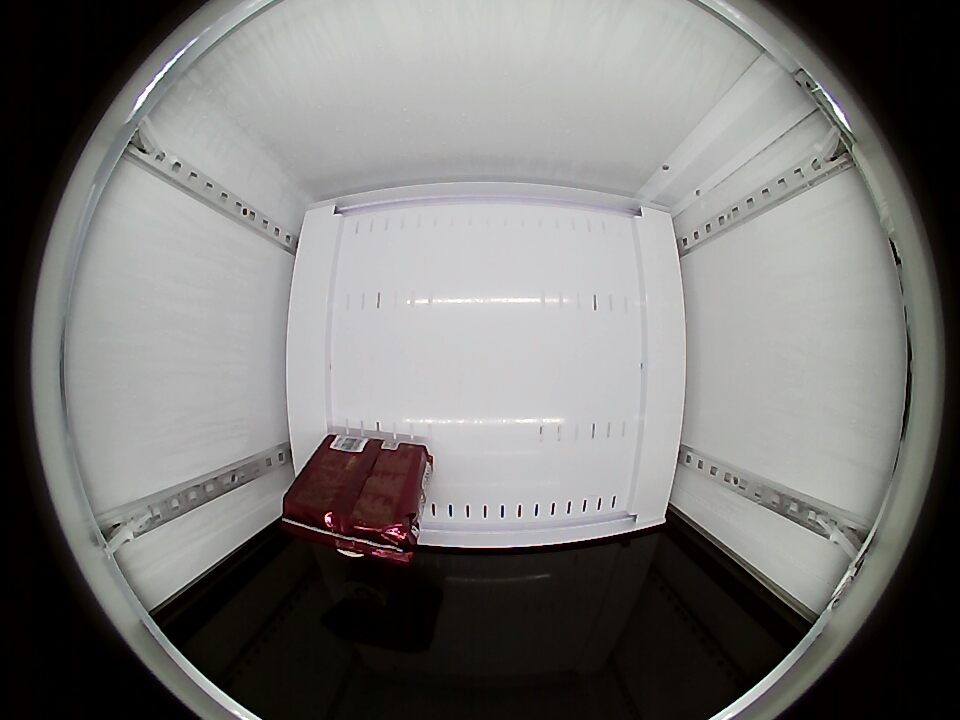haochidian: (281, 484, 423, 562)
